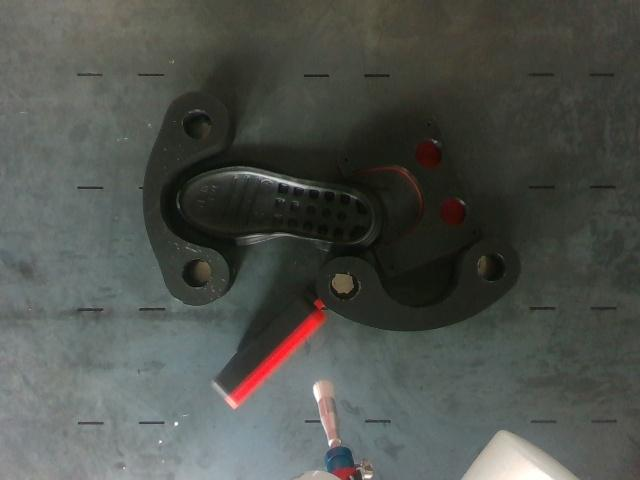shoes: (179, 168, 375, 244)
